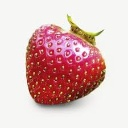strawberry: (25, 20, 108, 106)
